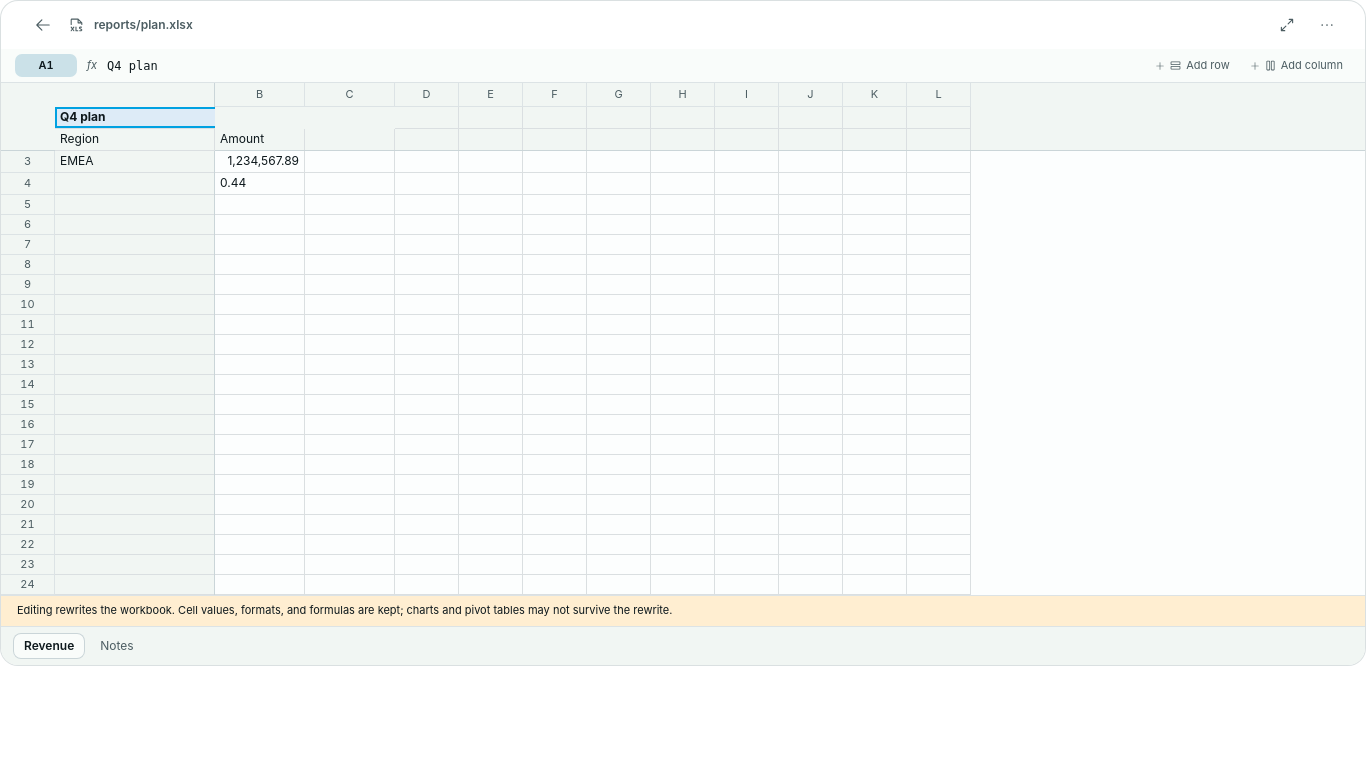
Test: workbook preview › discards pending edits without touching the file
Click the cell named "A3, EMEA" at (135, 162), box top-left (55, 151), bottom-right (215, 173)
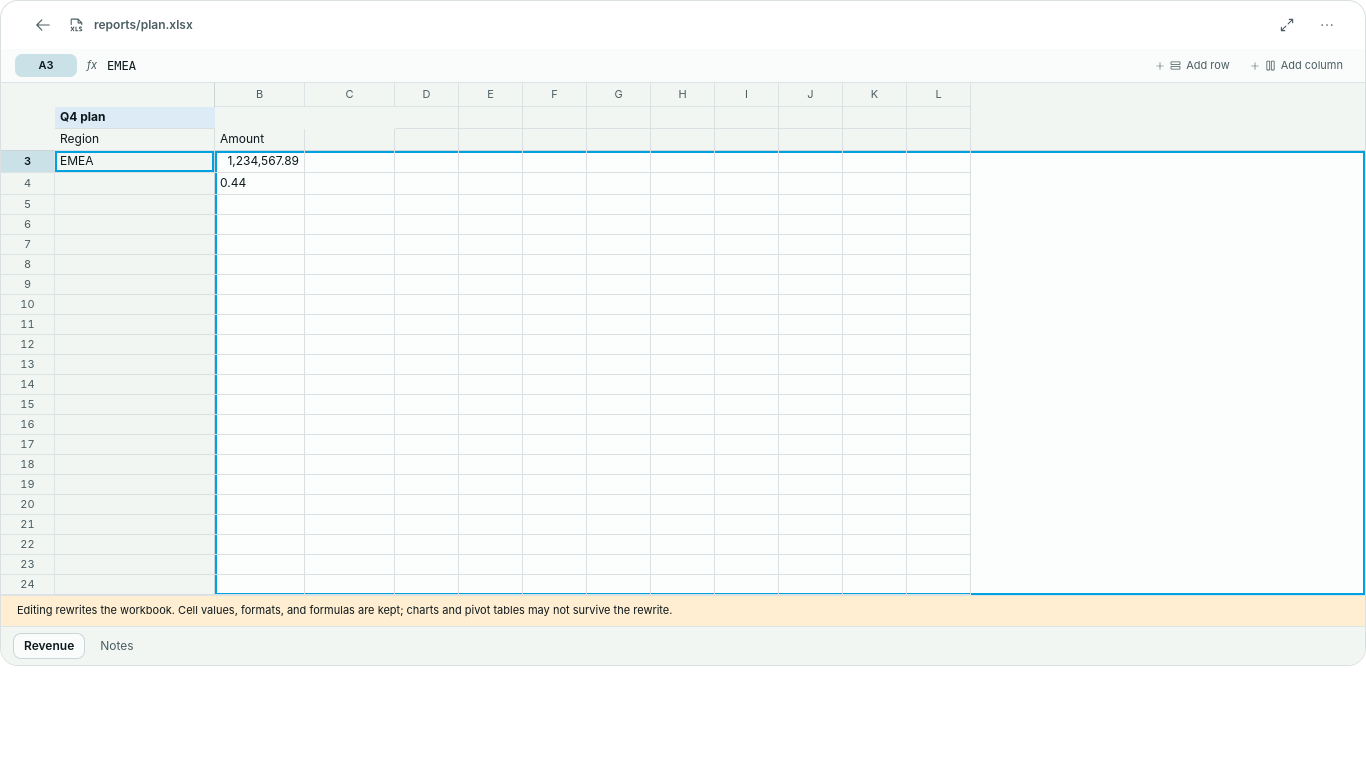
Type keys "Nordics{Enter}"
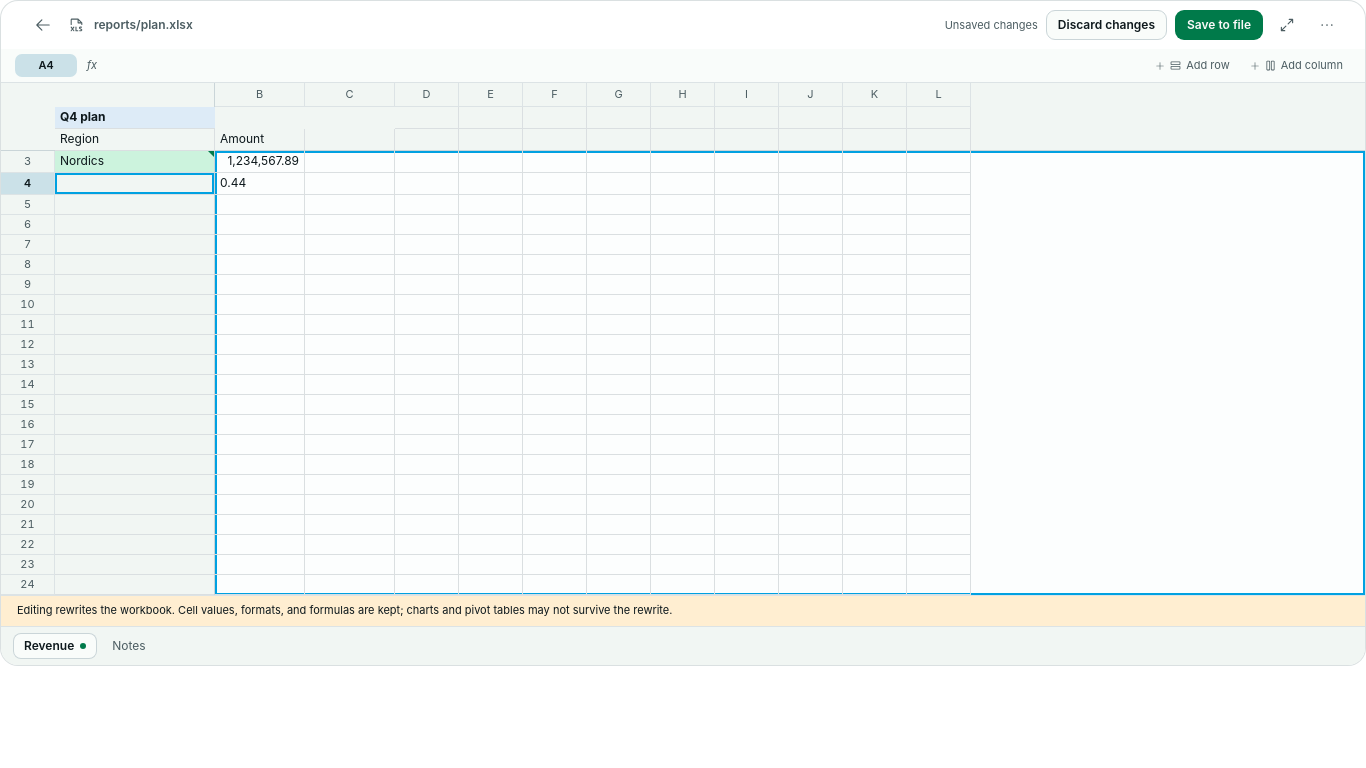
Expected: the text "Unsaved changes" is shown, top-left (945, 17), bottom-right (1038, 33)
Click the button "Discard changes" at (1106, 25), box top-left (1046, 10), bottom-right (1167, 40)
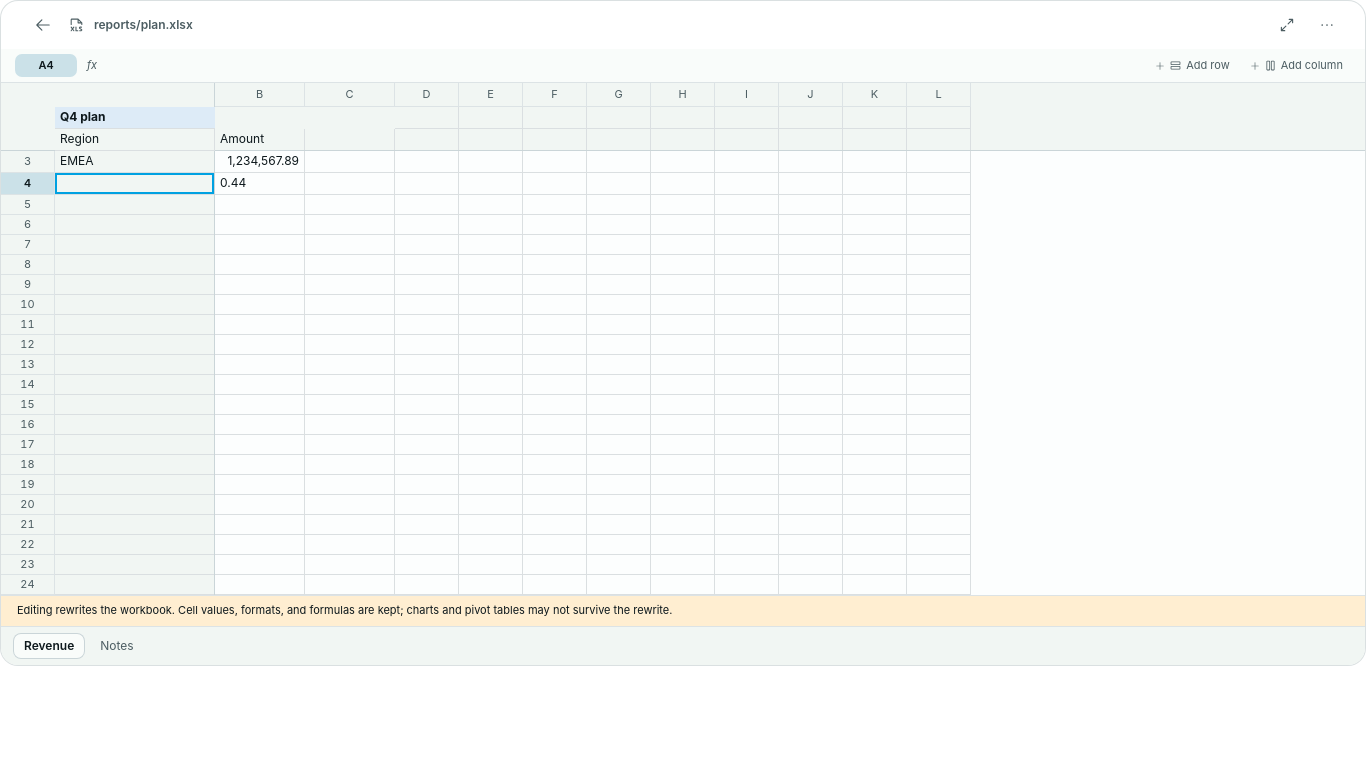
Expected: the cell named "A3, EMEA" is shown, top-left (55, 151), bottom-right (215, 173)
